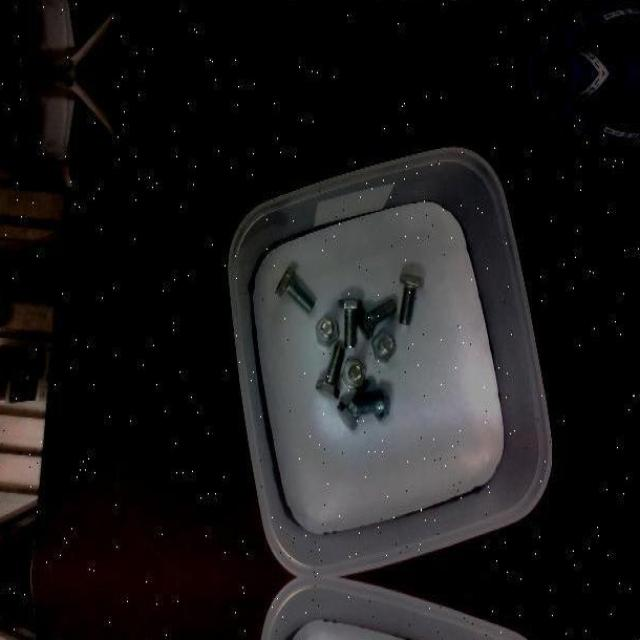screw: (276, 267, 315, 314), (315, 343, 344, 399), (356, 298, 396, 338), (348, 388, 389, 422), (399, 273, 424, 325), (338, 298, 362, 348), (372, 328, 396, 364), (315, 315, 339, 348), (342, 358, 366, 388)
